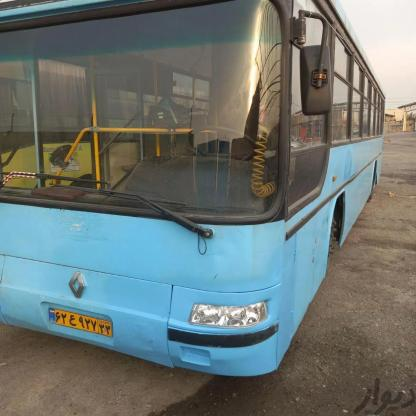Bus: (0, 0, 399, 385)
